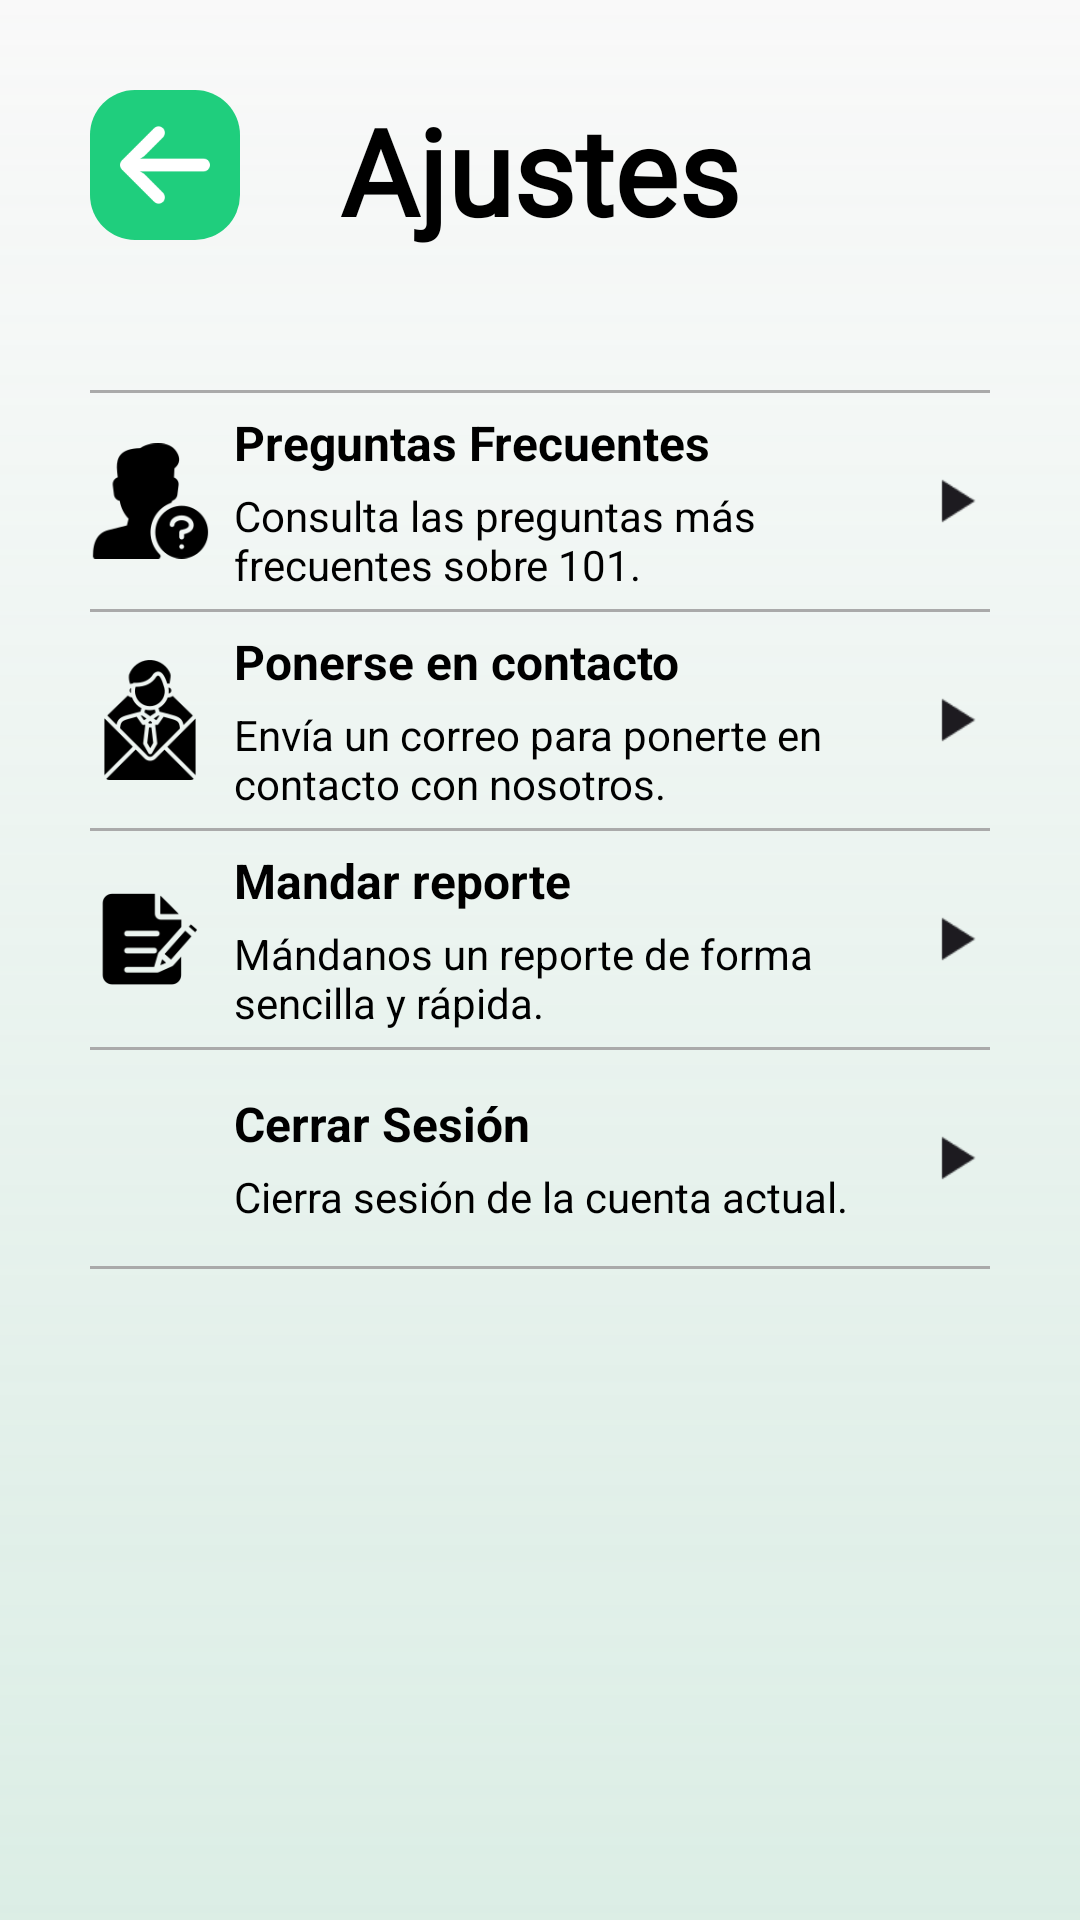

Icons on this 1080x1920 Android screen, each with the point to tap as [x,y]:
ajustes contacto: [150,720]
faq: [150,501]
flecha izquierda: [165,165]
settings arrow: [958,501], [958,720], [958,939], [958,1158]
